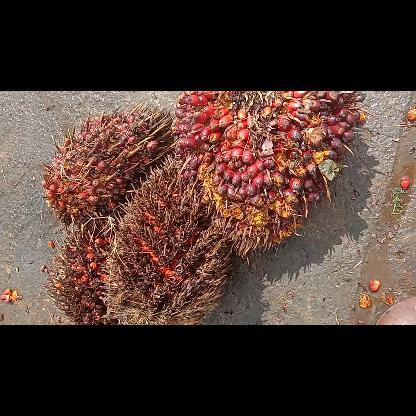TBS masak: (171, 90, 369, 262), (36, 102, 178, 235)
Terlalu masak: (96, 155, 233, 324), (43, 220, 118, 324)
